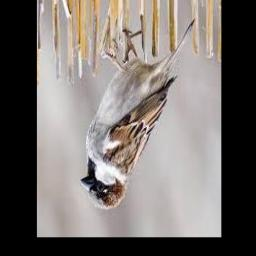Sparrow: (80, 20, 195, 211)
